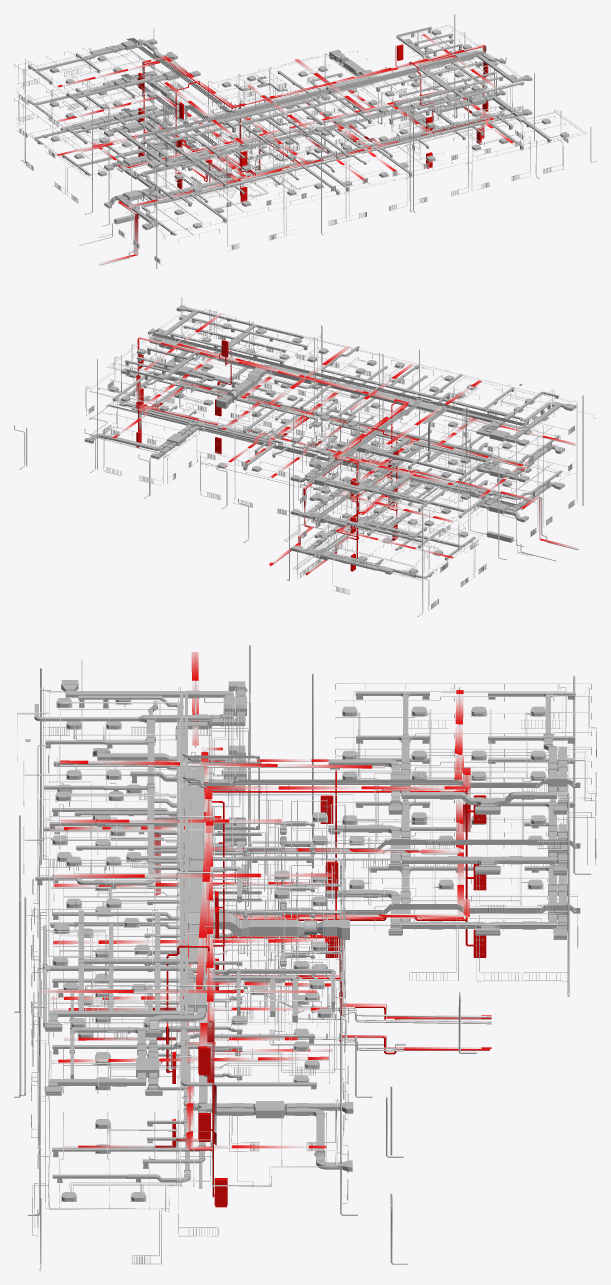
Rendered from jd1jxl.gltf.
3 renders of one model, top to bottom at view 1: azimuth 30°, elevation 25°; view 2: azimuth 150°, elevation 25°; view 3: azimuth 270°, elevation 25°, orthographic. The views are drawn at different scales.
Visible parts, largest first — view 1: 1jxl3cjdfg, 1jxl3cjdsg, 1jxl1cjdsg, 1jxl1cjdfg, 1jxl2cjdfg, 1jxl2cjdsg, 1jxl3cjdsglx, 1jxl1cjdsglx, 1jxl2cjdsglx, 1jxl3cjddw, 1jxl2cjddw, 1jxl1cjddw; view 2: 1jxl3cjdfg, 1jxl3cjdsg, 1jxl1cjdsg, 1jxl1cjdfg, 1jxl2cjdfg, 1jxl2cjdsg, 1jxl3cjdsglx, 1jxl1cjdsglx, 1jxl2cjdsglx, 1jxl3cjddw, 1jxl1cjddw, 1jxl2cjddw; view 3: 1jxl3cjdfg, 1jxl3cjdsg, 1jxl1cjdsg, 1jxl2cjdfg, 1jxl1cjdfg, 1jxl2cjdsg, 1jxl3cjdsglx, 1jxl1cjdsglx, 1jxl2cjdsglx, 1jxl3cjddw, 1jxl2cjddw, 1jxl1cjddw.
Part boxes in pixels (x1,y1,x2,y2): 1jxl3cjdfg: [28, 26, 532, 169]; 1jxl3cjdsg: [14, 14, 534, 203]; 1jxl1cjdsg: [21, 59, 596, 268]; 1jxl1cjdfg: [34, 86, 569, 235]; 1jxl2cjdfg: [28, 62, 532, 199]; 1jxl2cjdsg: [14, 55, 591, 234]; 1jxl3cjdsglx: [57, 34, 496, 151]; 1jxl1cjdsglx: [56, 94, 515, 263]; 1jxl2cjdsglx: [57, 68, 495, 178]; 1jxl3cjddw: [126, 38, 486, 139]; 1jxl2cjddw: [121, 74, 485, 176]; 1jxl1cjddw: [121, 108, 518, 206]; 1jxl3cjdfg: [120, 305, 576, 512]; 1jxl3cjdsg: [97, 297, 596, 543]; 1jxl1cjdsg: [14, 357, 583, 616]; 1jxl1cjdfg: [84, 372, 564, 578]; 1jxl2cjdfg: [112, 343, 564, 548]; 1jxl2cjdsg: [14, 338, 583, 578]; 1jxl3cjdsglx: [137, 313, 576, 498]; 1jxl1cjdsglx: [112, 384, 578, 574]; 1jxl2cjdsglx: [136, 357, 528, 522]; 1jxl3cjddw: [152, 333, 524, 483]; 1jxl1cjddw: [108, 405, 517, 558]; 1jxl2cjddw: [153, 374, 492, 522]; 1jxl3cjdfg: [25, 680, 575, 1075]; 1jxl3cjdsg: [17, 645, 596, 1089]; 1jxl1cjdsg: [14, 800, 591, 1270]; 1jxl2cjdfg: [44, 745, 575, 1141]; 1jxl1cjdfg: [44, 815, 567, 1207]; 1jxl2cjdsg: [19, 741, 596, 1208]; 1jxl3cjdsglx: [42, 652, 470, 1085]; 1jxl1cjdsglx: [53, 816, 491, 1149]; 1jxl2cjdsglx: [51, 747, 463, 1145]; 1jxl3cjddw: [180, 693, 580, 1015]; 1jxl2cjddw: [180, 823, 580, 1087]; 1jxl1cjddw: [199, 891, 580, 1188].
Bounding box in the file's own units: 62.89 × 16.96 × 35.25.
Materials: 17 (2 with a texture image).
